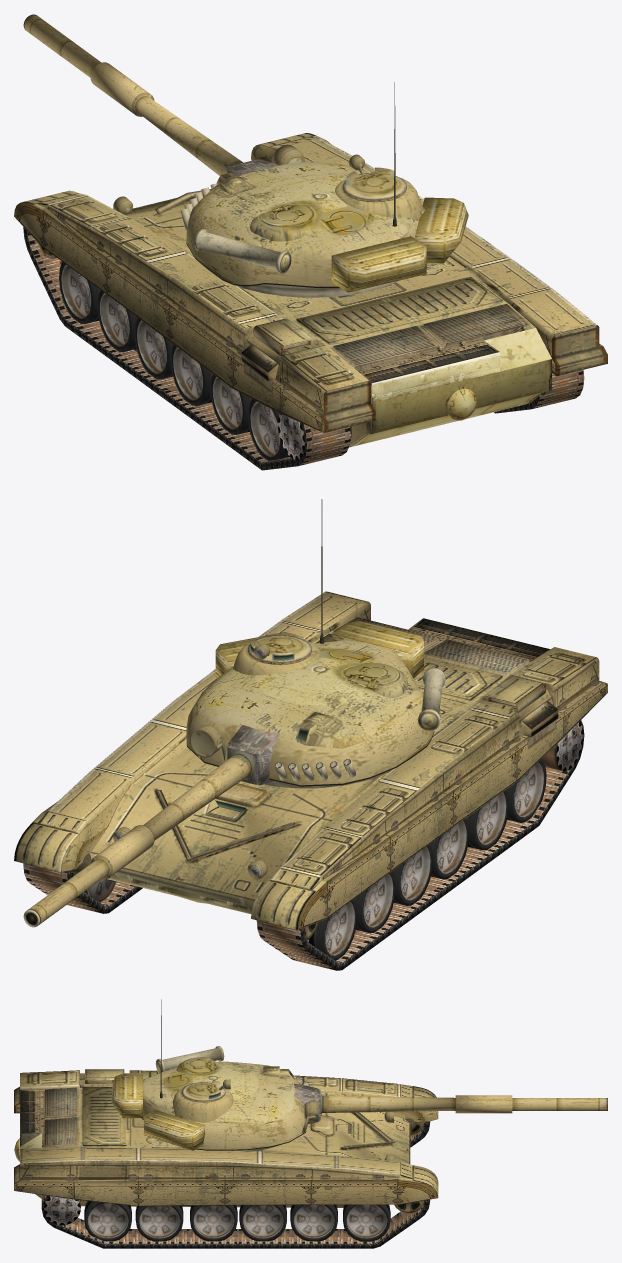
Rendered from T72_MBT_Low_Poly.glb.
3 renders of one model, top to bottom at view 1: azimuth 30°, elevation 25°; view 2: azimuth 150°, elevation 25°; view 3: azimuth 270°, elevation 25°, orthographic. The views are drawn at different scales.
Parts seen in each view (by area): view 1: chassis_acmat_0_0, turret_acmat_0_0, gun_acmat_0_0; view 2: chassis_acmat_0_0, turret_acmat_0_0, gun_acmat_0_0; view 3: chassis_acmat_0_0, turret_acmat_0_0, gun_acmat_0_0.
Boxes of the visible parts, left/top/right/bottom form: chassis_acmat_0_0: left=14, top=133, right=607, bottom=470; turret_acmat_0_0: left=180, top=82, right=468, bottom=297; gun_acmat_0_0: left=23, top=14, right=279, bottom=175; chassis_acmat_0_0: left=14, top=591, right=607, bottom=970; turret_acmat_0_0: left=186, top=499, right=445, bottom=788; gun_acmat_0_0: left=23, top=725, right=279, bottom=927; chassis_acmat_0_0: left=14, top=1069, right=438, bottom=1248; turret_acmat_0_0: left=111, top=999, right=318, bottom=1150; gun_acmat_0_0: left=294, top=1083, right=607, bottom=1124.
Size of the model in its own units: 3.63 by 3.8 by 9.5.
1 material, 1 textured.
